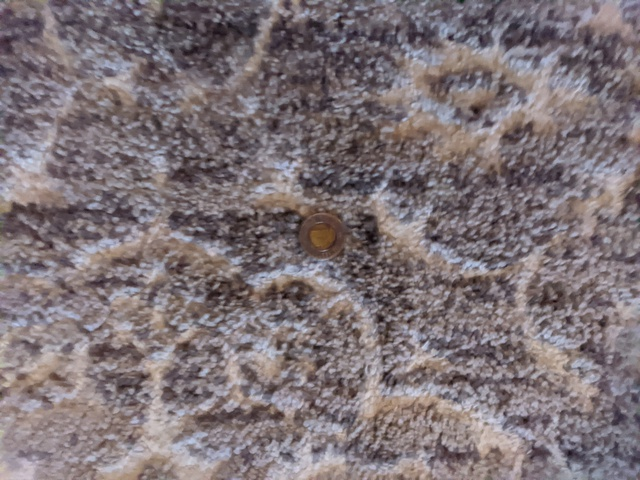twonie: (291, 205, 350, 263)
